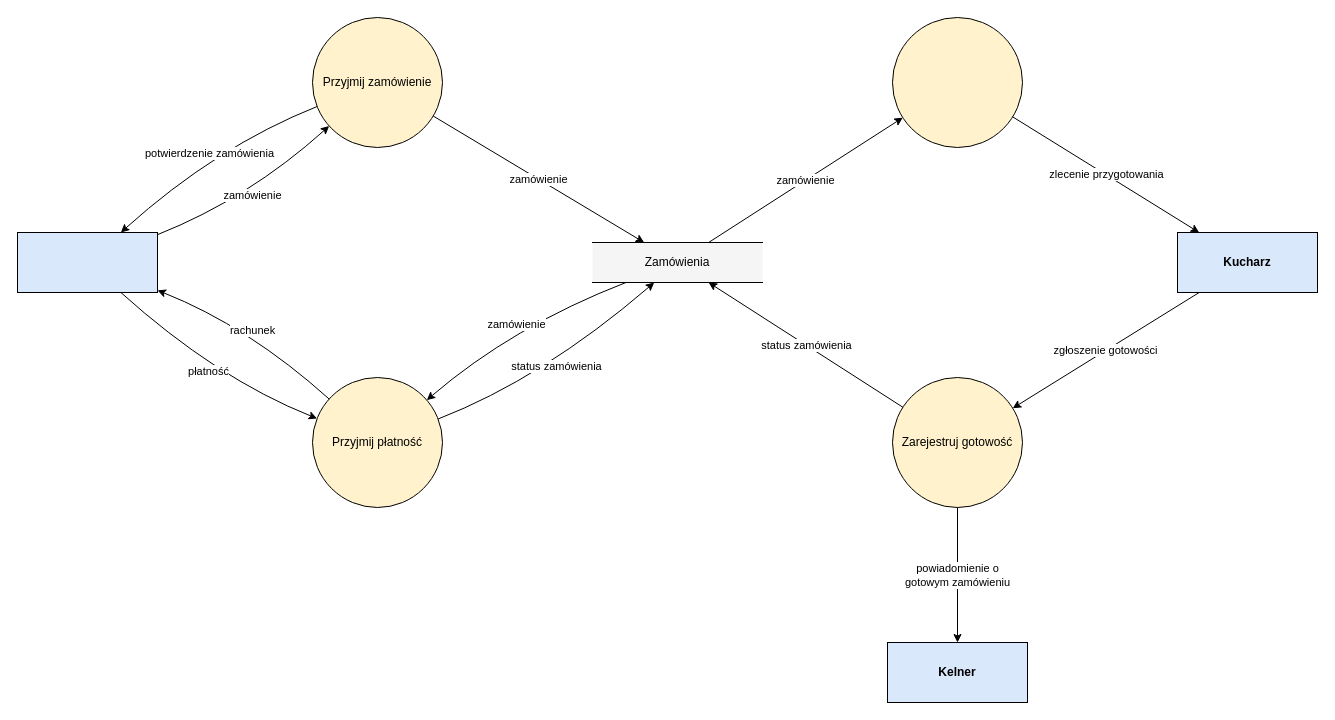
The diagram is 1335 pixels wide and 720 high, and some of its shapes have lost their labels. Each missing label, with the box of its shape:
Klient: (16, 232, 158, 292)
Zleć przygotowanie: (892, 16, 1022, 148)
